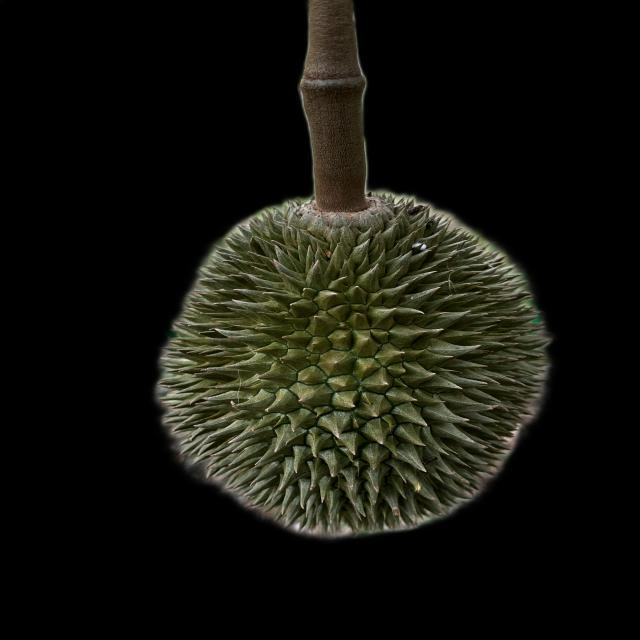immature: (149, 192, 553, 538)
